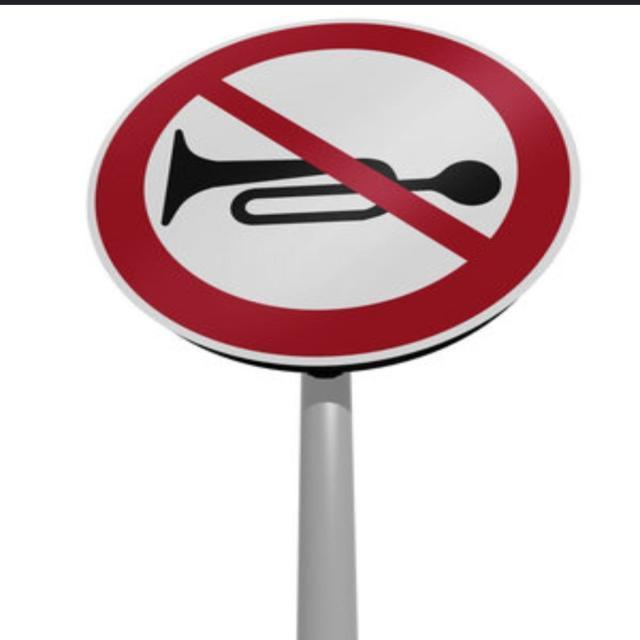horn prohibited: (92, 20, 581, 371)
